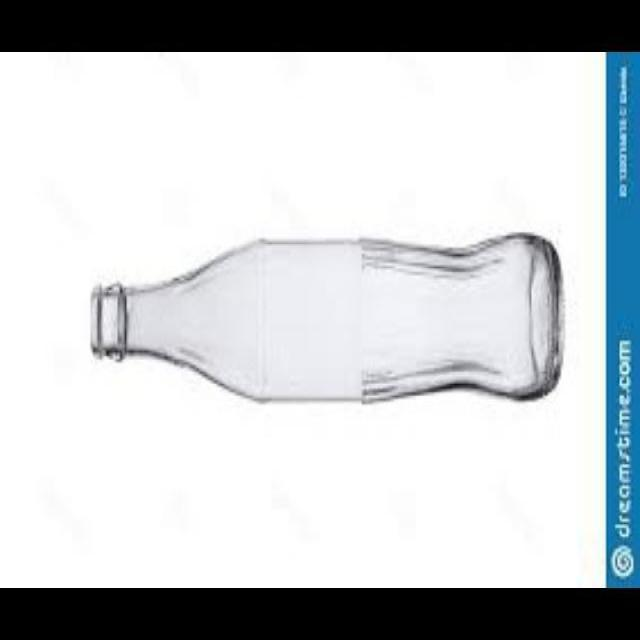Glass: (87, 228, 568, 406)
